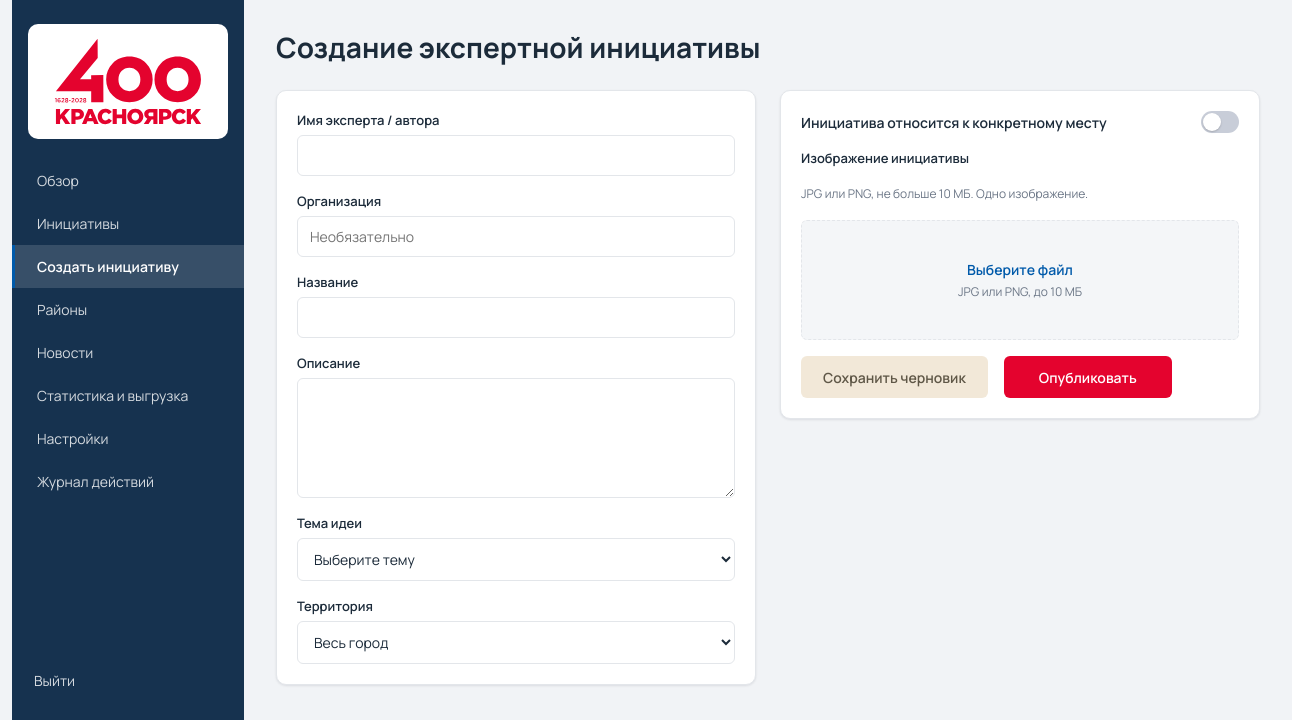
Scenario: admin initiatives › uses real districts and topics in the create form
This screenshot has width=1292, height=720.
Select "По районам" in the dropdown labelled "Территория" at (516, 642), box x1=297 y1=621 x2=735 y2=664
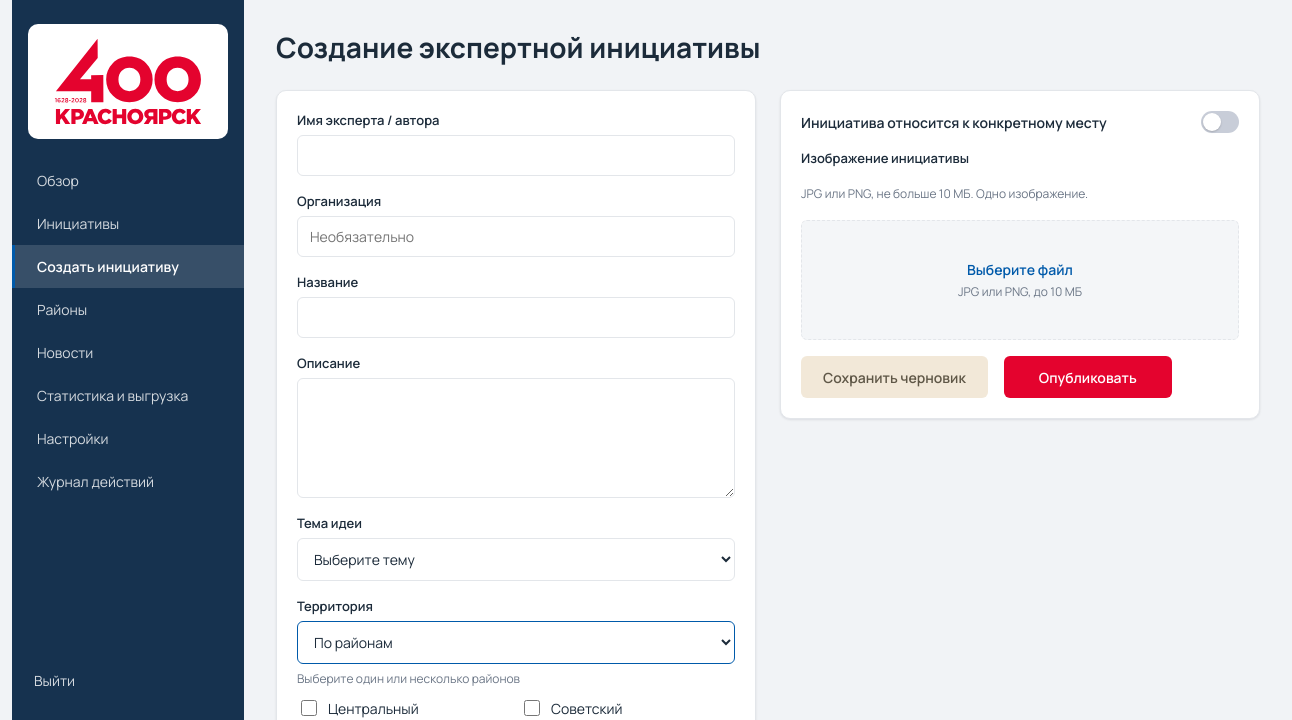
Expected: the checkbox labelled "Центральный" is shown, x1=301 y1=700 x2=317 y2=716
